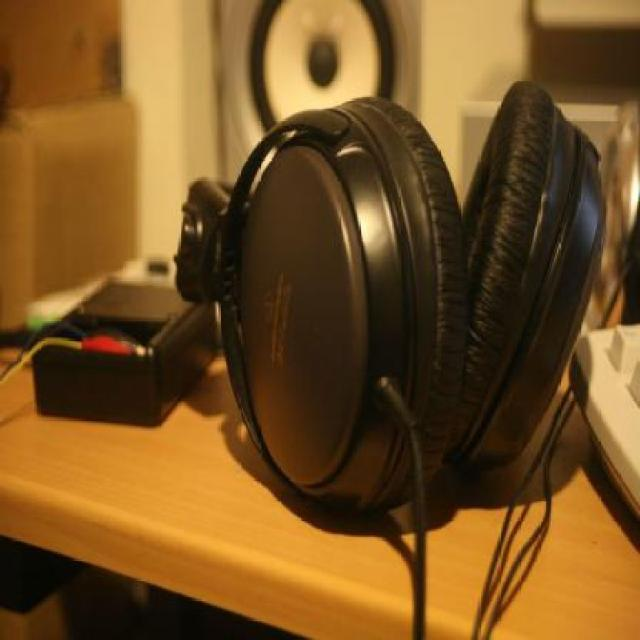earphone: (215, 74, 581, 541)
